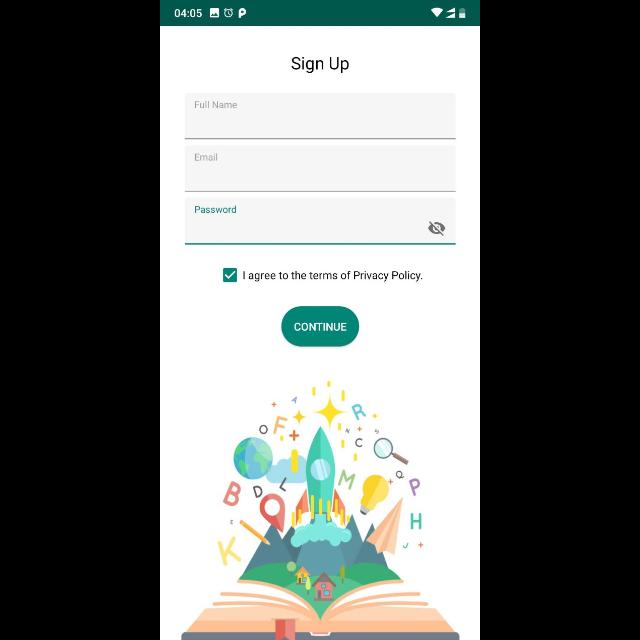checkbox: (224, 268, 236, 282)
icon: (429, 222, 446, 236)
image: (182, 380, 460, 640)
input: (185, 198, 457, 246), (185, 93, 457, 139), (186, 146, 457, 192)
text: (244, 270, 424, 282), (292, 58, 350, 74), (196, 101, 237, 109), (196, 205, 237, 213), (196, 153, 218, 161)
textbutton: (282, 307, 360, 347)
uppertaskbar: (161, 1, 481, 26)
